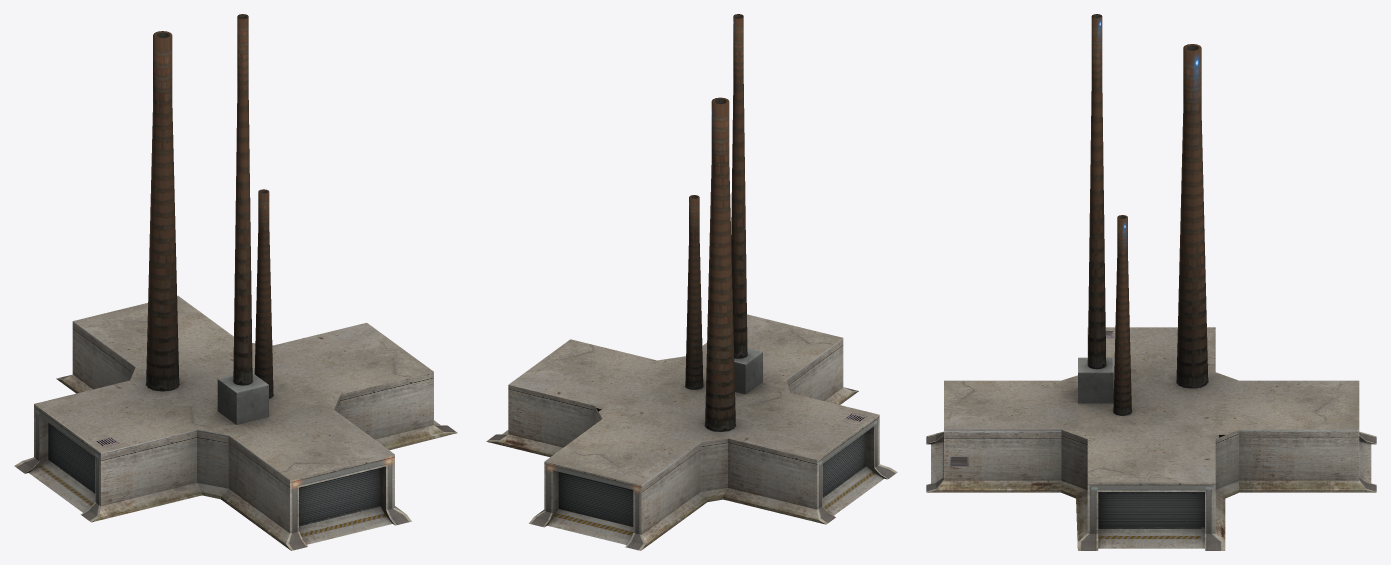
Rendered from WarFactory.fbx.
3 renders of one model, left to right at view 1: azimuth 30°, elevation 25°; view 2: azimuth 150°, elevation 25°; view 3: azimuth 270°, elevation 25°, orthographic. The views are drawn at different scales.
Visible parts, largest first — view 1: polySurface1; view 2: polySurface1; view 3: polySurface1.
Boxes of the visible parts, x1,y1,x2,y2 form: polySurface1: (14, 14, 457, 550); polySurface1: (486, 14, 897, 550); polySurface1: (926, 14, 1376, 550).
Size of the model in its own units: 11.3 by 13.52 by 12.56.
